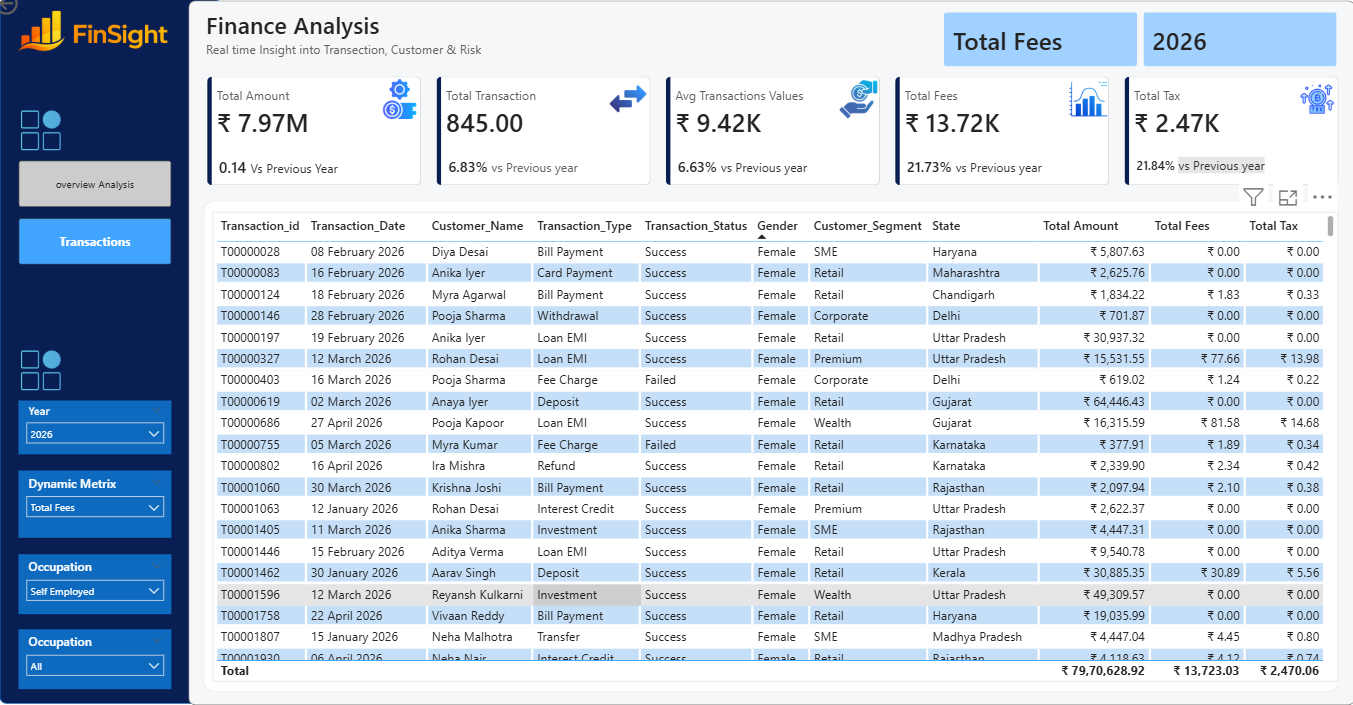

This screenshot's page, from the dashboard's own definition file:
{"tool":"powerbi","page":{"name":"Transactions ","canvas":[1800,950],"ordinal":1},"visuals":[{"type":"shape","box":[11.7,15,290,921.7],"z":0},{"type":"shape","box":[258,16,1526,922],"z":1000},{"type":"image","box":[28.6,14.3,215.7,84.3],"z":2000},{"type":"cardVisual","fields":{"Data":["finance_transactions.Dashboard Title"]},"box":[276.7,20,410,78.3],"z":3000},{"type":"cardVisual","fields":{"Data":["finance_transactions.Total Amount","finance_transactions.Total Transaction","finance_transactions.Avg Transactions Values","finance_transactions.Total Fees","finance_transactions.Total Tax"]},"box":[277,109,1492.9,154.3],"z":4000},{"type":"image","box":[509.2,119.2,52,52],"z":5000},{"type":"image","box":[807.1,120,51.4,51.4],"z":6000},{"type":"image","box":[1108.3,120,52,52],"z":7000},{"type":"image","box":[1410,119.2,52,52],"z":8000},{"type":"image","box":[1709,119,52,52],"z":9000},{"type":"shape","box":[277.5,277.5,1485,642.5],"z":10000},{"type":"cardVisual","fields":{"Data":["finance_transactions.Selected Dynamic Masure","finance_transactions.Selected Year"]},"box":[1239.5,24.5,529.8,85],"z":11000},{"type":"tableEx","fields":{"Values":["finance_transactions.transaction_id","finance_transactions.transaction_date","customers.customer_name","finance_transactions.transaction_type","finance_transactions.transaction_status","customers.gender","customers.customer_segment","customers.state","finance_transactions.Total Amount","finance_transactions.Total Fees","finance_transactions.Total Tax"]},"box":[290,292,1472,616],"z":12000},{"type":"actionButton","box":[0,0,100,40],"z":13000},{"type":"slicer","fields":{"Values":["Calander Table.Year"]},"box":[36.7,540,200,70],"z":14000},{"type":"slicer","fields":{"Values":["Dynamic Metrix.Dynamic Metrix"]},"box":[36.7,631.7,200,88.3],"z":15000},{"type":"slicer","fields":{"Values":["customers.occupation"]},"box":[36.7,740,200,78.3],"z":16000},{"type":"slicer","fields":{"Values":["finance_transactions.merchant_category"]},"box":[36.7,838.3,200,78.3],"z":17000},{"type":"pageNavigator","box":[36,226,200,136],"z":18000},{"type":"image","box":[40,160,52,52],"z":19000},{"type":"image","box":[40,474,52,52],"z":20000}]}

Visuals, with their boxes on the page's 1800x950 design canvas (x1, y1, x2, y2). These are canvas units, not pixel positions in the 1353x705 screenshot, which may show the page scaled, cropped or inside an application window:
shape: (x1=12, y1=15, x2=302, y2=937)
shape: (x1=258, y1=16, x2=1784, y2=938)
image: (x1=29, y1=14, x2=244, y2=99)
cardVisual - finance_transactions.Dashboard Title: (x1=277, y1=20, x2=687, y2=98)
cardVisual - finance_transactions.Total Amount x finance_transactions.Total Transaction: (x1=277, y1=109, x2=1770, y2=263)
image: (x1=509, y1=119, x2=561, y2=171)
image: (x1=807, y1=120, x2=858, y2=171)
image: (x1=1108, y1=120, x2=1160, y2=172)
image: (x1=1410, y1=119, x2=1462, y2=171)
image: (x1=1709, y1=119, x2=1761, y2=171)
shape: (x1=278, y1=278, x2=1762, y2=920)
cardVisual - finance_transactions.Selected Dynamic Masure x finance_transactions.Selected Year: (x1=1240, y1=24, x2=1769, y2=110)
tableEx - finance_transactions.transaction_id x finance_transactions.transaction_date: (x1=290, y1=292, x2=1762, y2=908)
actionButton: (x1=0, y1=0, x2=100, y2=40)
slicer - Calander Table.Year: (x1=37, y1=540, x2=237, y2=610)
slicer - Dynamic Metrix.Dynamic Metrix: (x1=37, y1=632, x2=237, y2=720)
slicer - customers.occupation: (x1=37, y1=740, x2=237, y2=818)
slicer - finance_transactions.merchant_category: (x1=37, y1=838, x2=237, y2=917)
pageNavigator: (x1=36, y1=226, x2=236, y2=362)
image: (x1=40, y1=160, x2=92, y2=212)
image: (x1=40, y1=474, x2=92, y2=526)
